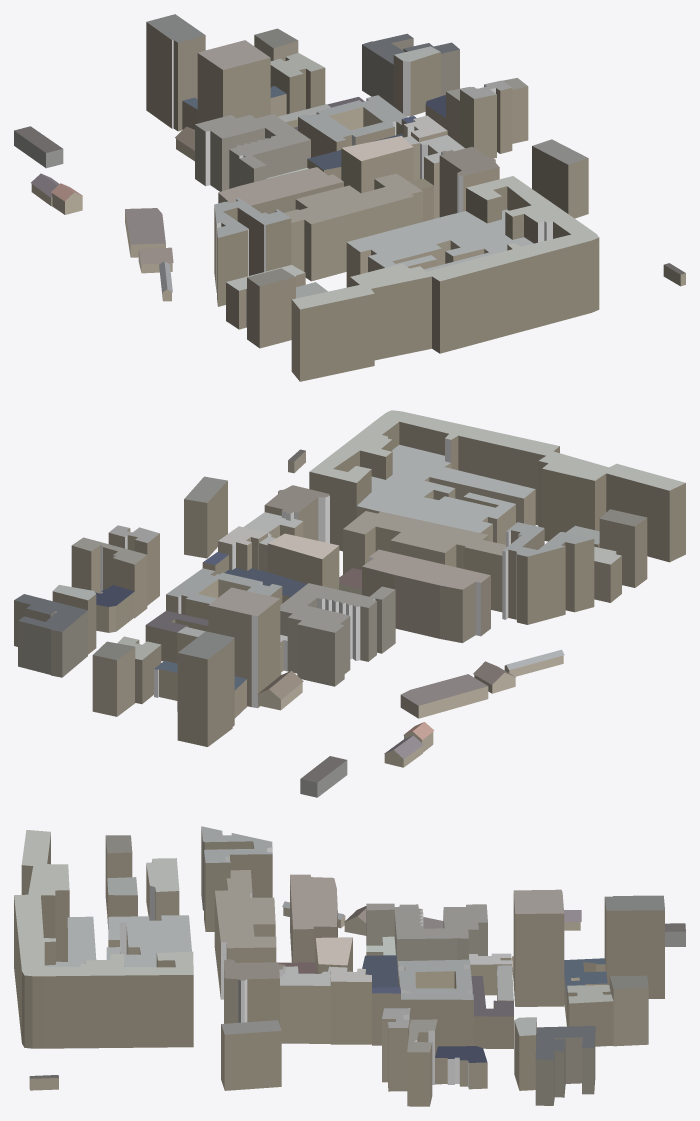
3 views of the same model, one above another, from view 1: azimuth 30°, elevation 25°; view 2: azimuth 150°, elevation 25°; view 3: azimuth 270°, elevation 25° (orthographic).
Visible parts, largest first — view 1: tuile; view 2: tuile; view 3: tuile.
Boxes of the visible parts, x1,y1,x2,y2 form: tuile: (14, 14, 685, 381); tuile: (14, 410, 685, 797); tuile: (14, 826, 685, 1106).
Size of the model in its own units: 187 by 45.42 by 255.
